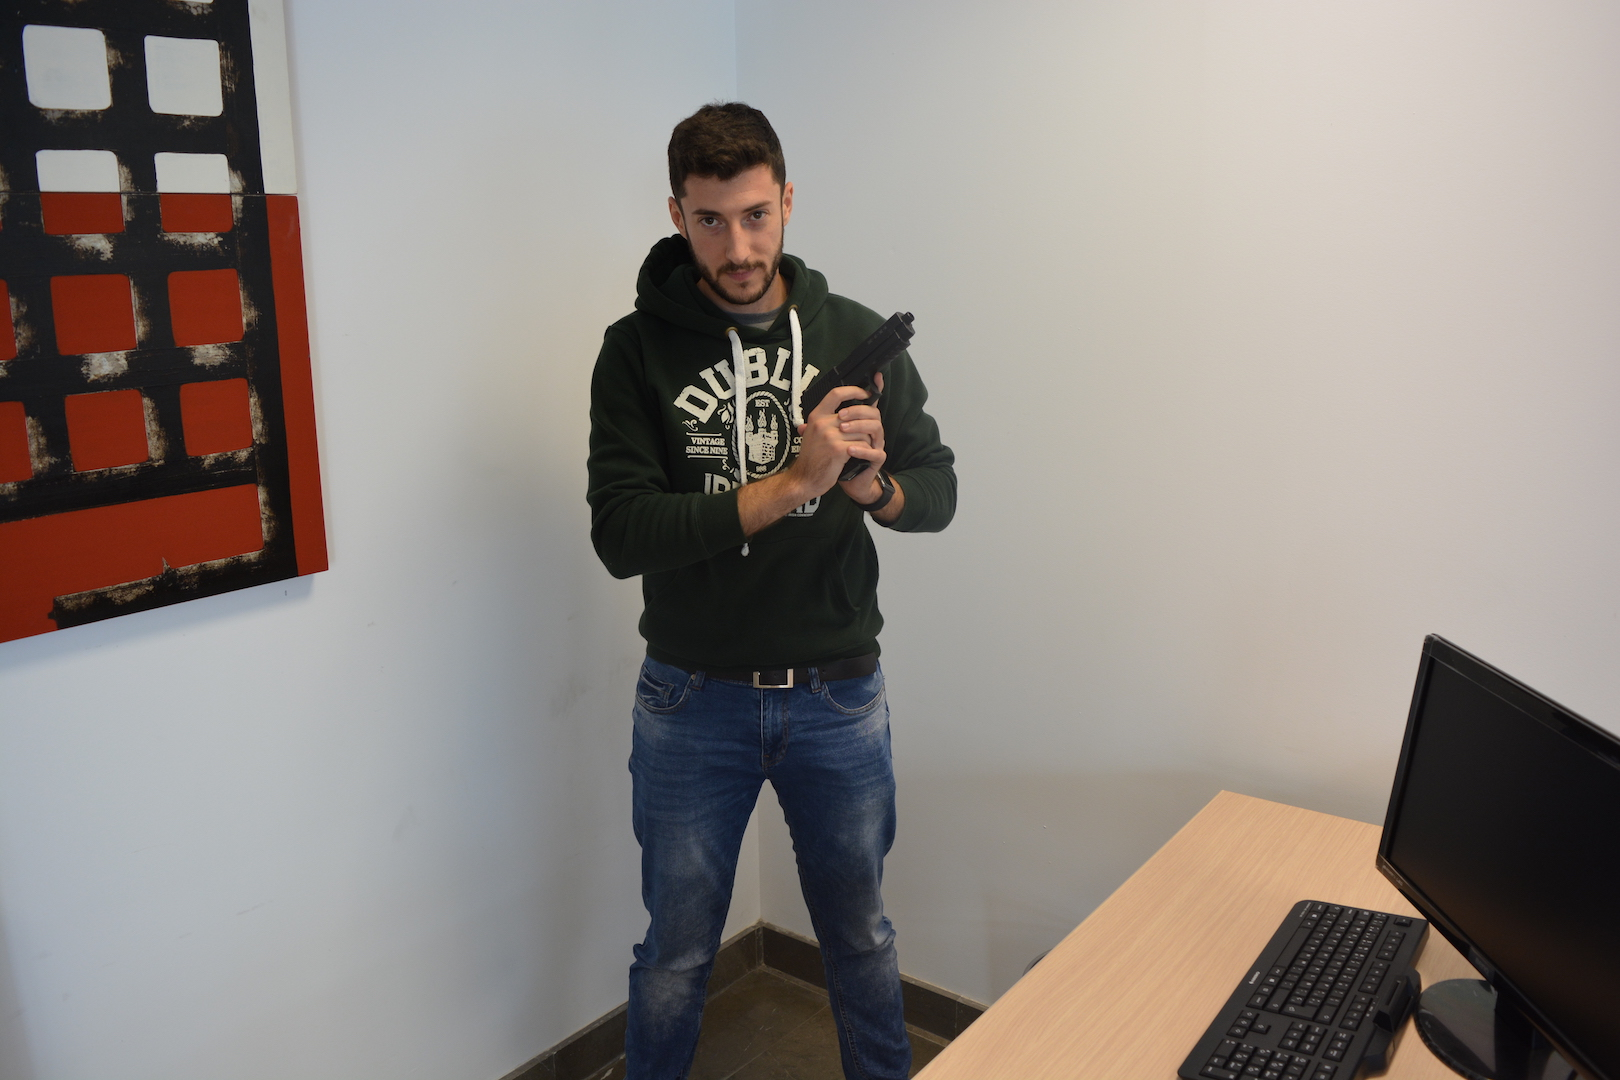pistol: (798, 310, 916, 483)
